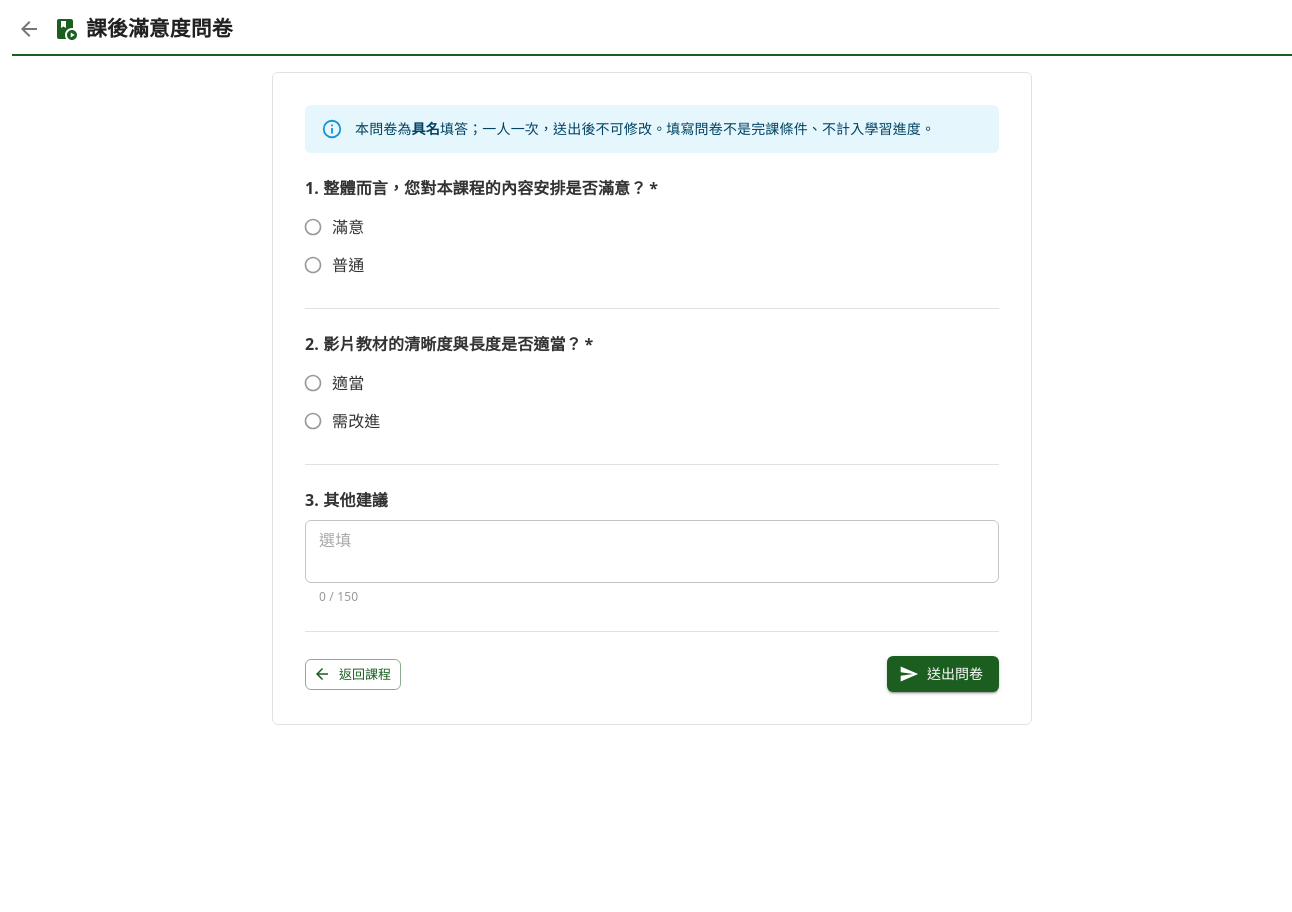
Test case: EtSurveyFillPage › 字數計數隨輸入更新
Expected: the text "0 / 150" is shown, [319,588,358,605]
Type "很好" into the text box named "其他建議" at (652, 552), box [319,528,985,574]
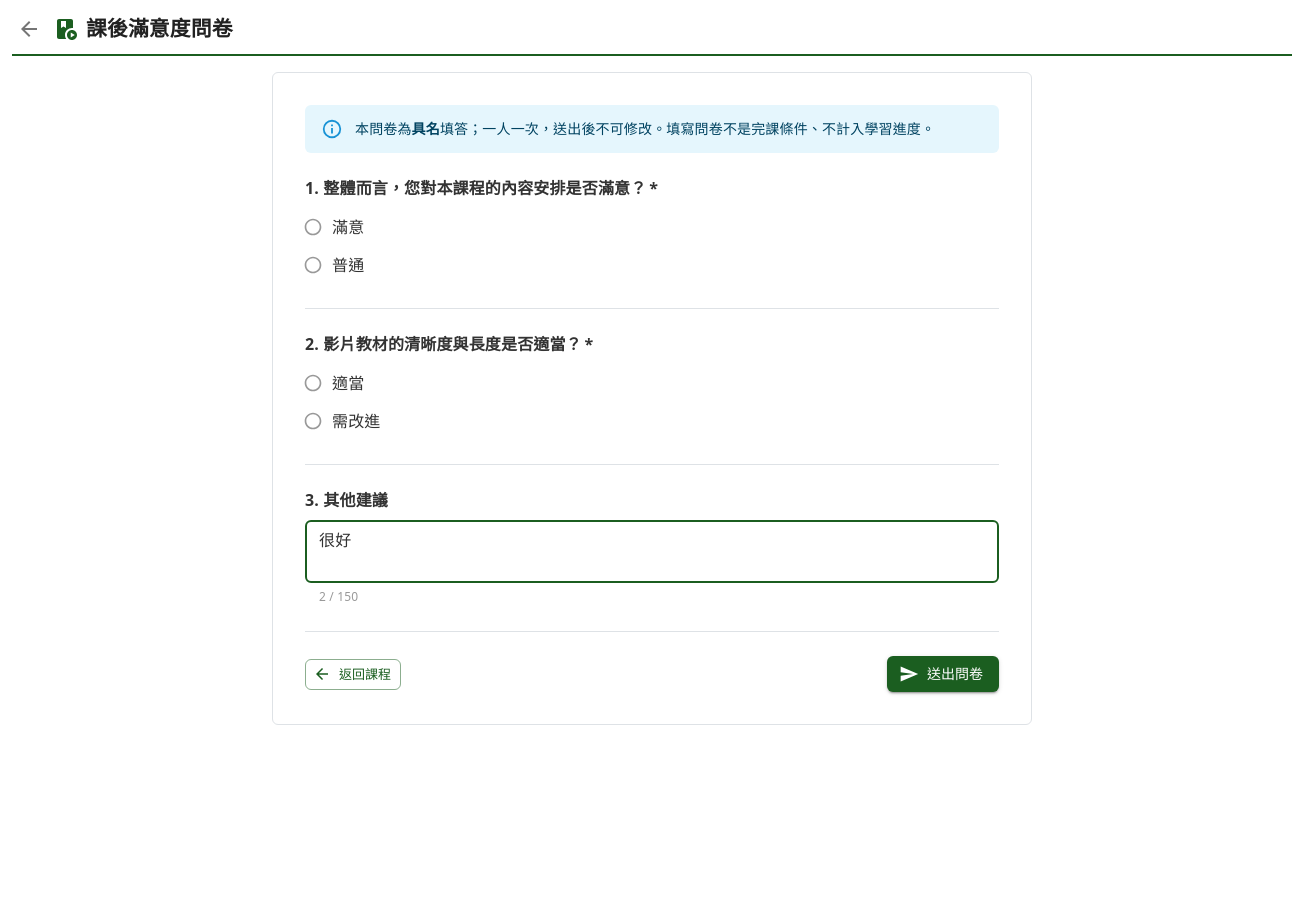
Expected: the text "2 / 150" is shown, [319,588,358,605]
